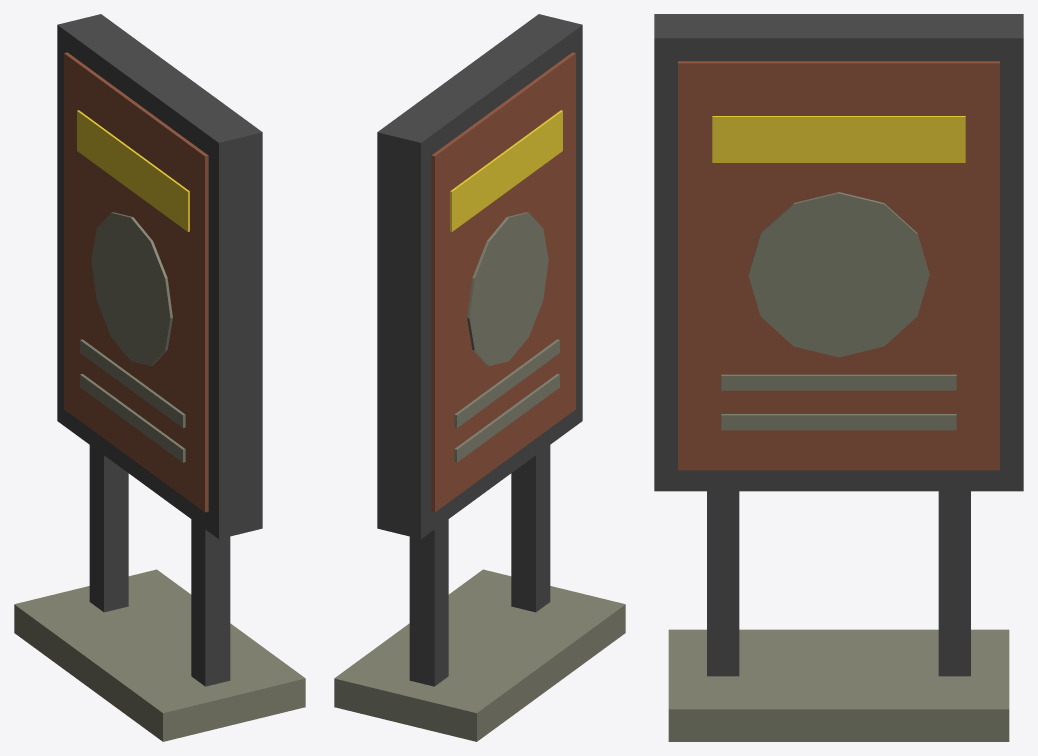
The model's file is advert.fbx.
3 renders of one model, left to right at view 1: azimuth 30°, elevation 25°; view 2: azimuth 150°, elevation 25°; view 3: azimuth 270°, elevation 25°, orthographic. The views are drawn at different scales.
Parts seen in each view (by area): view 1: advert.002; view 2: advert.002; view 3: advert.002.
Boxes of the visible parts, x1,y1,x2,y2 form: advert.002: (14, 14, 305, 741); advert.002: (334, 14, 625, 741); advert.002: (654, 14, 1023, 741).
Size of the model in its own units: 0.52 by 2.06 by 1.02.
